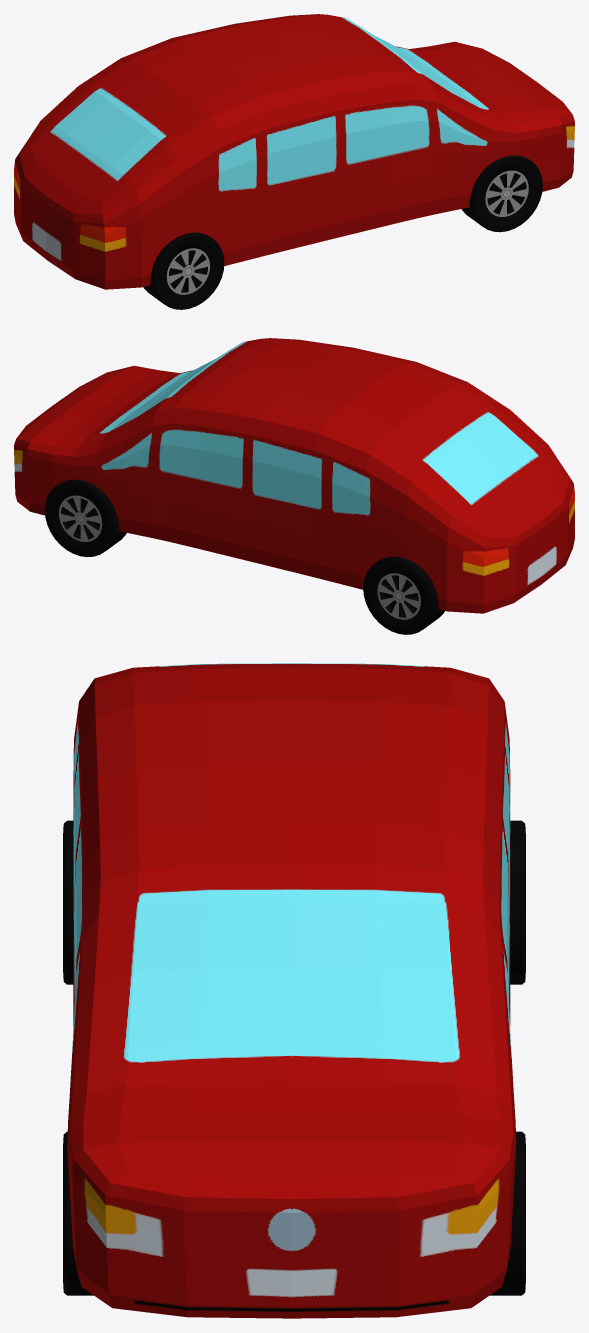
Rendered from car.obj.
3 views of the same model, one above another, from view 1: azimuth 30°, elevation 25°; view 2: azimuth 150°, elevation 25°; view 3: azimuth 270°, elevation 25° (orthographic). The views are drawn at different scales.
Parts seen in each view (by area): view 1: Body, Tire; view 2: Body, Tire; view 3: Body, Tire.
Boxes of the visible parts, x1,y1,x2,y2 form: Body: (14, 14, 574, 289); Tire: (143, 155, 542, 309); Body: (14, 338, 574, 613); Tire: (44, 479, 444, 634); Body: (67, 663, 516, 1318); Tire: (63, 820, 525, 1295).
Bounding box in the file's own units: 4.58 × 1.61 × 1.86.
1 material, 1 textured.
